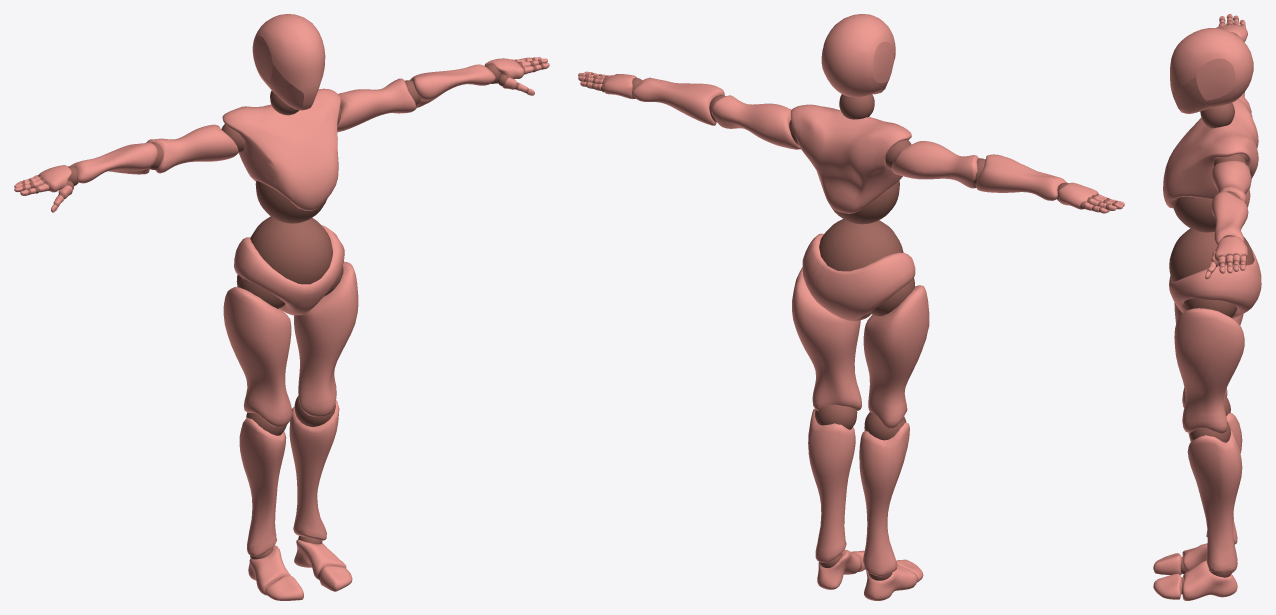
3 renders of one model, left to right at view 1: azimuth 30°, elevation 25°; view 2: azimuth 150°, elevation 25°; view 3: azimuth 270°, elevation 25°, orthographic. The views are drawn at different scales.
Parts seen in each view (by area): view 1: Beta_Surface, Beta_Joints; view 2: Beta_Surface, Beta_Joints; view 3: Beta_Surface, Beta_Joints.
Part boxes in pixels (x1=…): Beta_Surface: x1=14, y1=14, x2=549, y2=600; Beta_Joints: x1=21, y1=57, x2=543, y2=579; Beta_Surface: x1=578, y1=14, x2=1124, y2=600; Beta_Joints: x1=584, y1=72, x2=1117, y2=580; Beta_Surface: x1=1153, y1=14, x2=1261, y2=600; Beta_Joints: x1=1169, y1=16, x2=1254, y2=594.
Size of the model in its own units: 1.81 by 1.81 by 0.3207.
